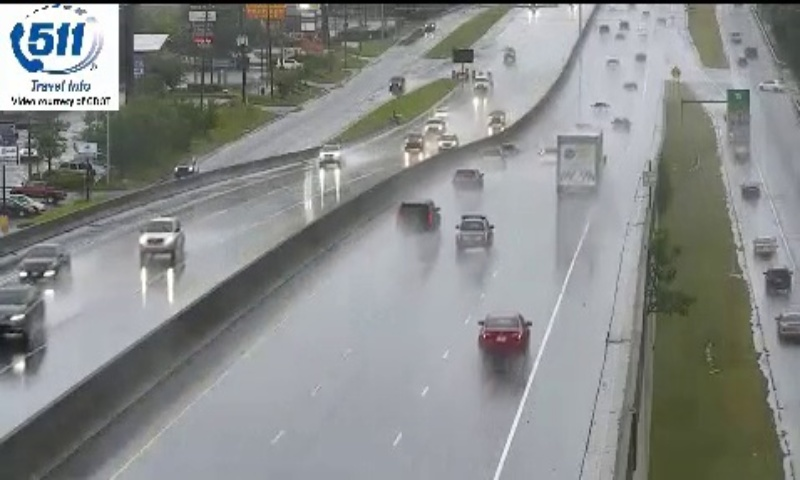car: (476, 314, 528, 354), (396, 201, 440, 232), (456, 217, 492, 247), (451, 167, 483, 192)
small-truck: (557, 131, 604, 194)
